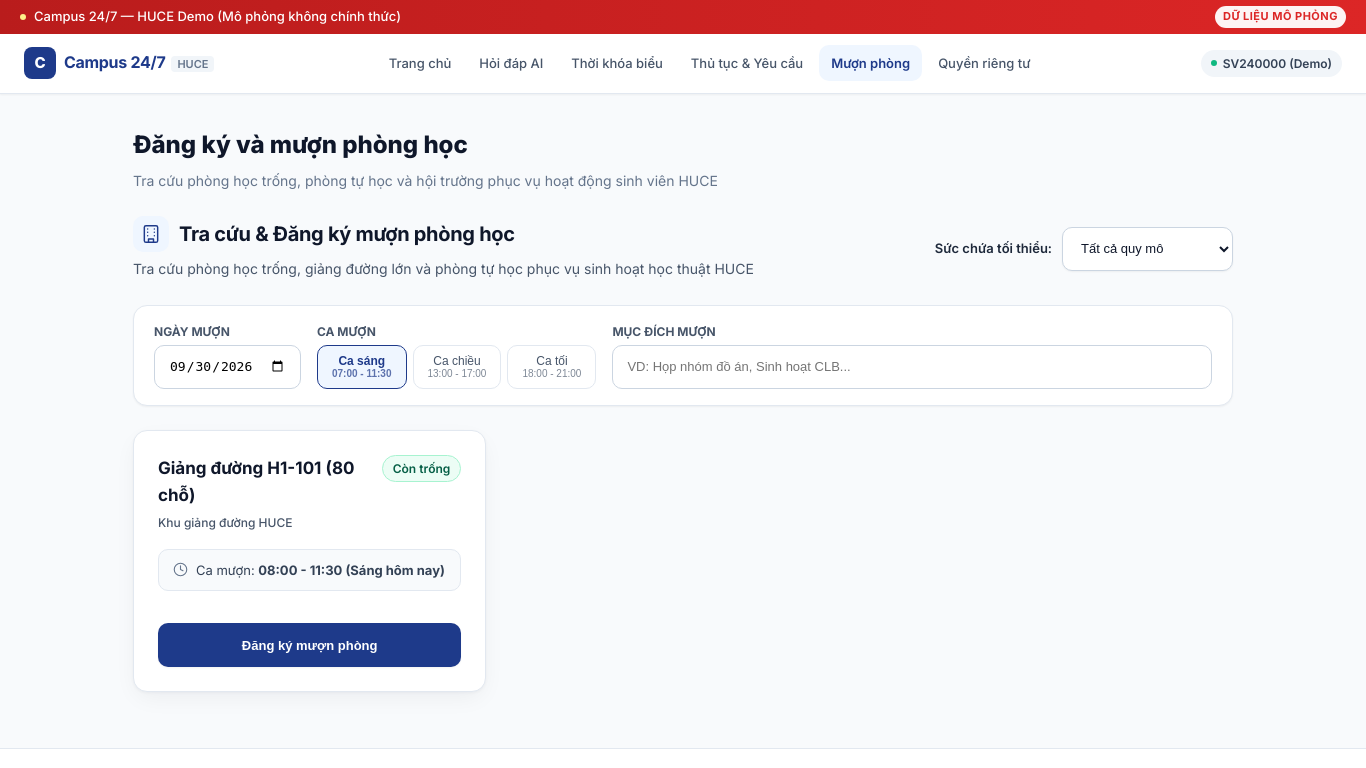
Scenario: RoomsPage Component - Fail Honestly (TASK-WEB-ROOM-003) › booking timeout represents outcome as result-unknown and guides user against duplicate submissions
What coordinates should you click on to do the following:
click the button "Đăng ký mượn phòng"
I would click on:
 (310, 645)
Its box is [158, 623, 461, 667].
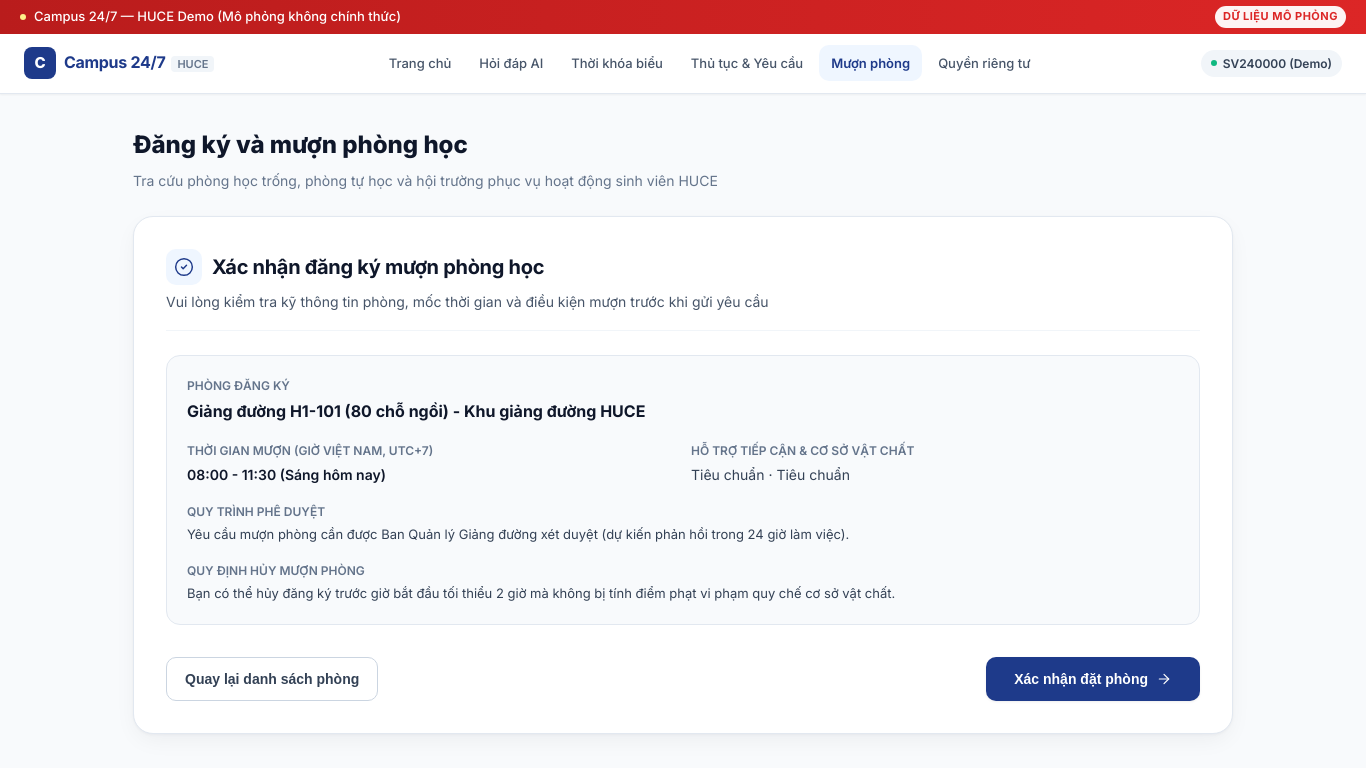
What coordinates should you click on to do the following:
click the button "Xác nhận đặt phòng"
I would click on:
 (1093, 678)
Its box is [986, 656, 1200, 700].
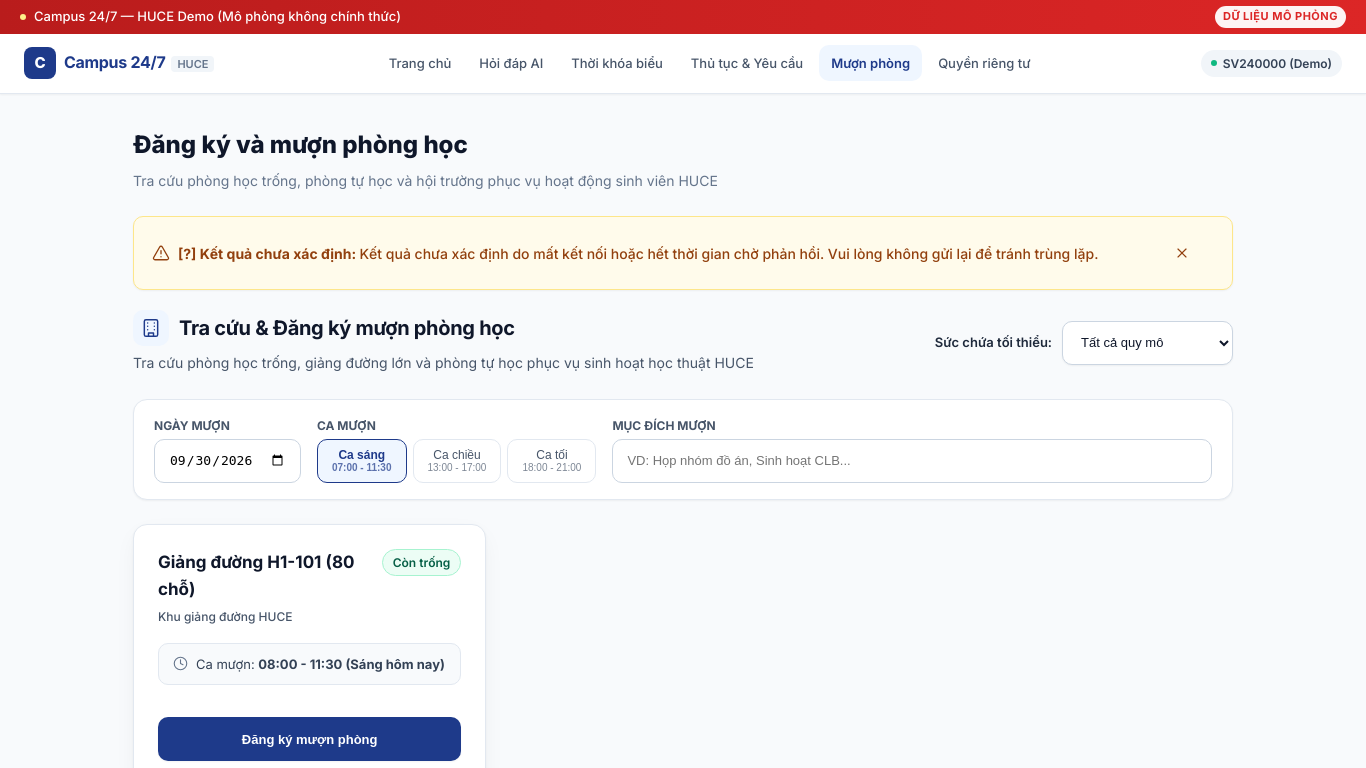
Result: the text "không gửi lại để tránh trùng lặp" is shown at [360, 245, 1098, 262]
